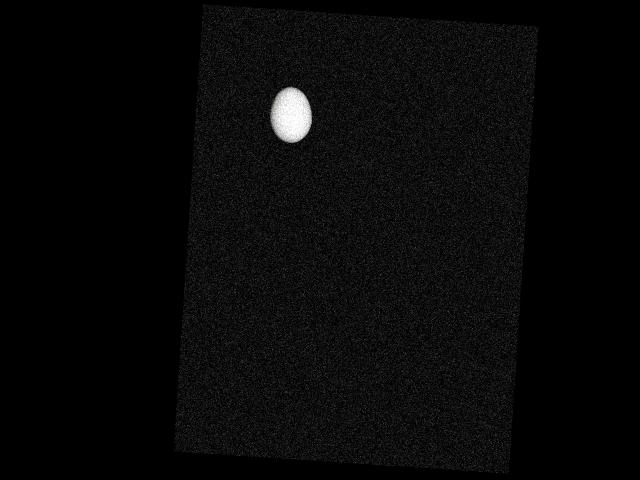egg: (269, 86, 313, 144)
